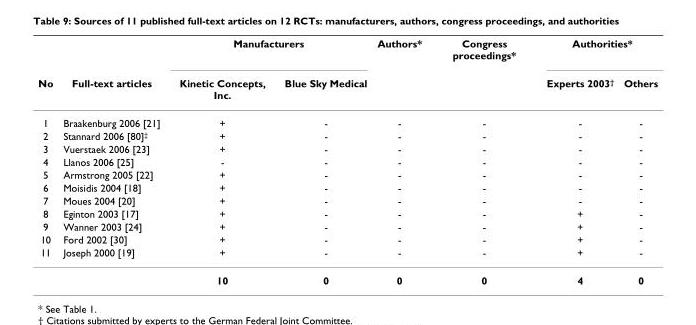table: (37, 36, 657, 285)
table column: (57, 36, 169, 285), (169, 36, 274, 285), (274, 36, 371, 285), (436, 36, 530, 285), (530, 36, 617, 285), (371, 36, 436, 285), (617, 36, 657, 285), (37, 36, 57, 285)
table column header: (37, 36, 657, 108)
table row: (37, 68, 657, 108), (37, 36, 657, 68), (37, 108, 657, 129), (37, 245, 657, 265), (37, 265, 657, 285), (37, 141, 657, 154), (37, 154, 657, 167), (37, 167, 657, 180), (37, 180, 657, 193), (37, 193, 657, 206), (37, 206, 657, 219), (37, 219, 657, 232), (37, 232, 657, 245), (37, 129, 657, 141)
table spanning cell: (57, 36, 169, 108), (436, 36, 530, 108), (169, 36, 371, 68), (371, 36, 436, 108), (530, 36, 657, 68), (37, 36, 57, 108), (37, 245, 57, 285)
